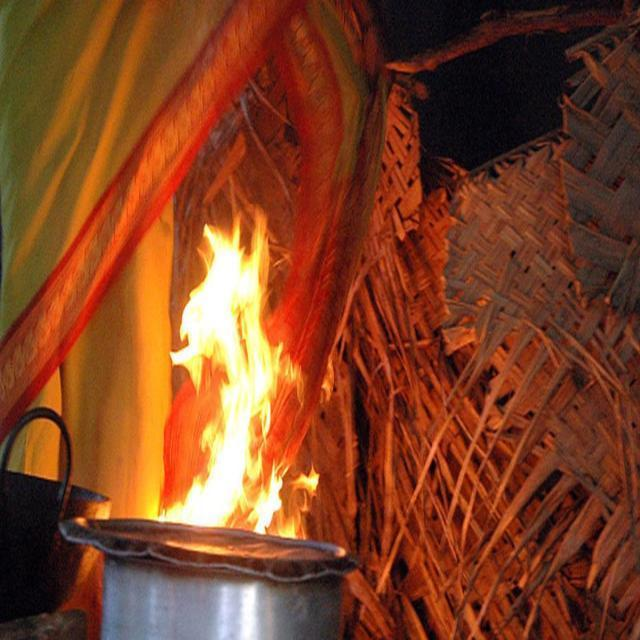Fire: (157, 195, 340, 553)
